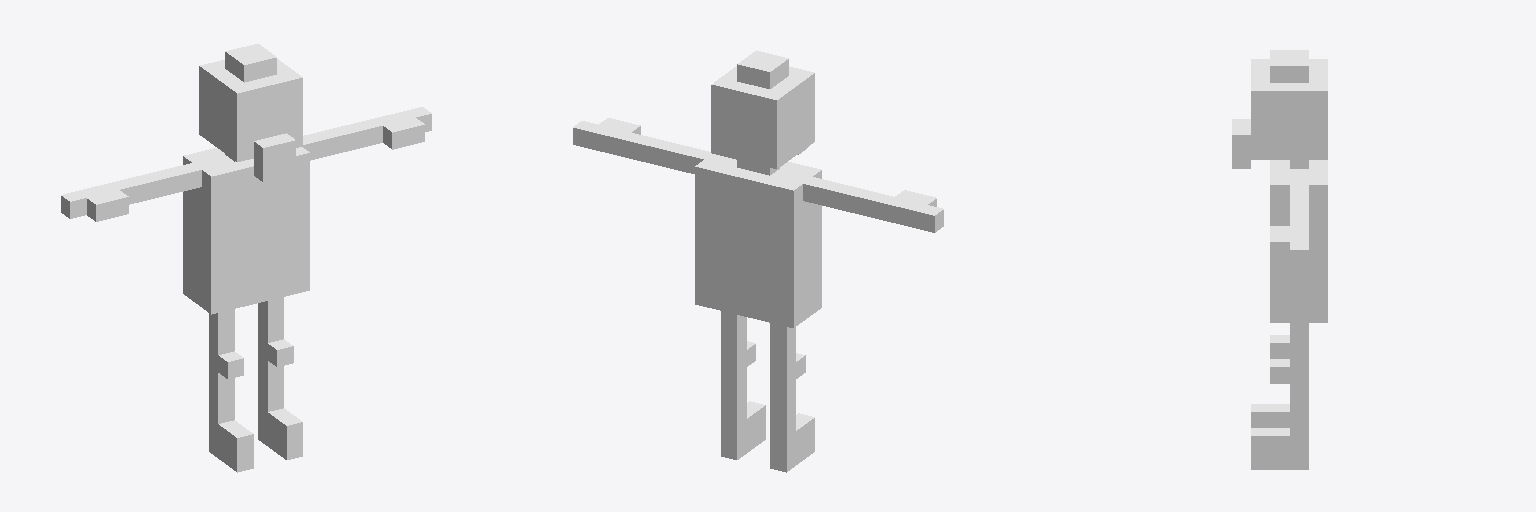
Rendered from old-man.obj.
3 views of the same model, side by side, from view 1: azimuth 30°, elevation 25°; view 2: azimuth 150°, elevation 25°; view 3: azimuth 270°, elevation 25° (orthographic).
Parts seen in each view (by area): view 1: object 1; view 2: object 1; view 3: object 1.
Boxes of the visible parts, x1,y1,x2,y2 form: object 1: [61, 44, 431, 472]; object 1: [573, 50, 943, 472]; object 1: [1232, 50, 1327, 469].
Size of the model in its own units: 2.2 by 2.3 by 0.5.